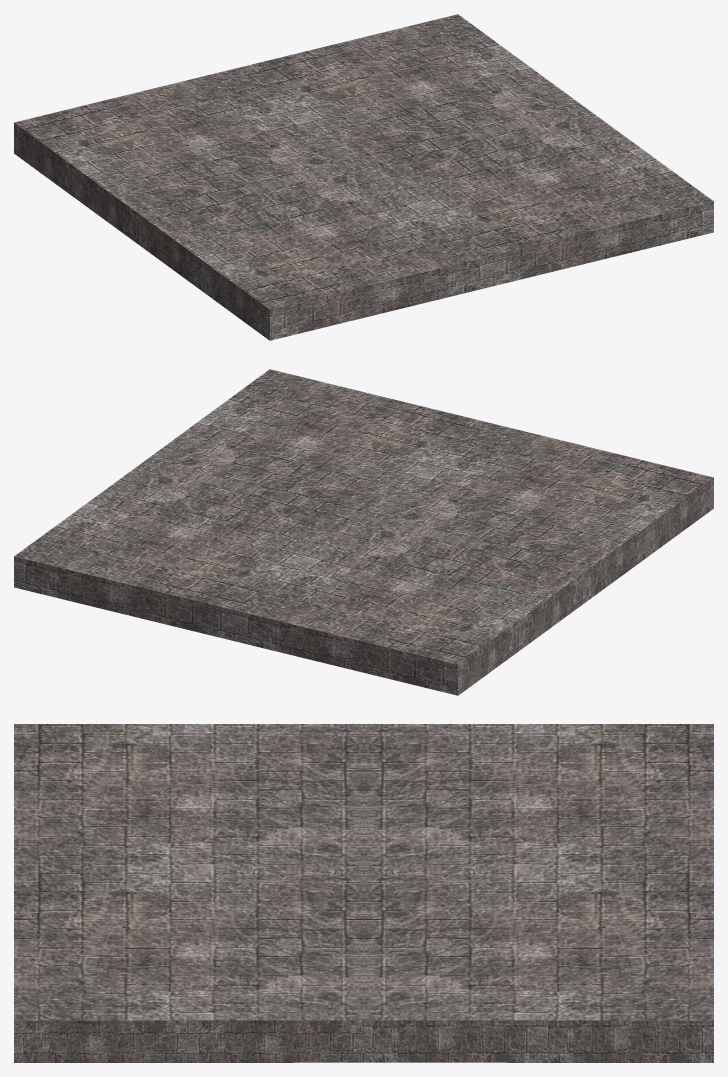
The model's file is floor02.FBX.
3 views of the same model, one above another, from view 1: azimuth 30°, elevation 25°; view 2: azimuth 150°, elevation 25°; view 3: azimuth 270°, elevation 25° (orthographic). The views are drawn at different scales.
Visible parts, largest first — view 1: hdb09, hdb10; view 2: hdb10, hdb09; view 3: hdb09, hdb10.
Boxes of the visible parts, <box> form: hdb09: <box>141,108,713,340</box>; hdb10: <box>14,14,585,246</box>; hdb10: <box>14,463,585,695</box>; hdb09: <box>142,369,713,601</box>; hdb09: <box>14,724,364,1062</box>; hdb10: <box>363,724,713,1062</box>.
Size of the model in its own units: 300 by 20 by 299.
Materials: 1 (1 with a texture image).
